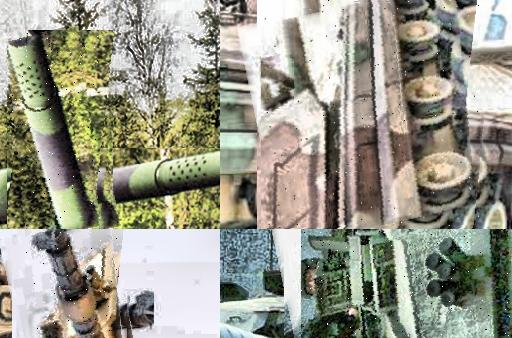tanks: (263, 2, 480, 230), (302, 230, 512, 338), (8, 35, 104, 230), (33, 230, 125, 338)
